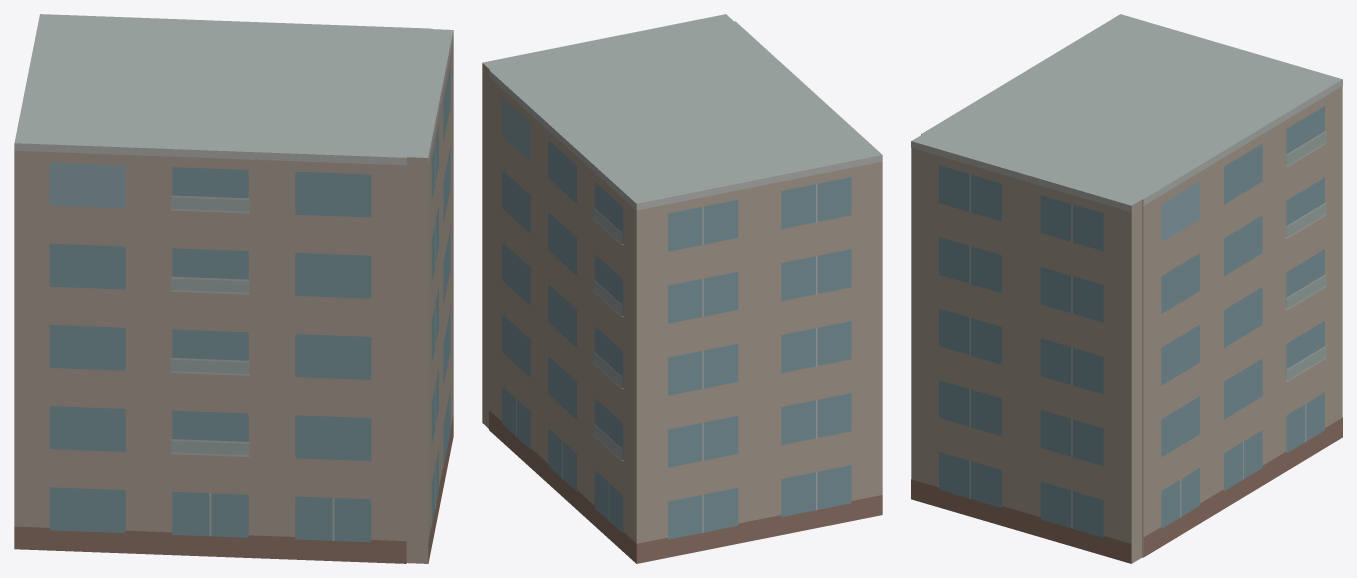
The model's file is survey-upis-32892416.glb.
3 views of the same model, side by side, from view 1: azimuth 30°, elevation 25°; view 2: azimuth 150°, elevation 25°; view 3: azimuth 270°, elevation 25° (orthographic). The views are drawn at different scales.
Parts seen in each view (by area): view 1: survey-upis-32892416.tmp; view 2: survey-upis-32892416.tmp; view 3: survey-upis-32892416.tmp.
Boxes of the visible parts, x1,y1,x2,y2 form: survey-upis-32892416.tmp: [14, 14, 453, 563]; survey-upis-32892416.tmp: [482, 14, 882, 563]; survey-upis-32892416.tmp: [911, 14, 1342, 563].
Size of the model in its own units: 15.16 by 13.2 by 14.42.
